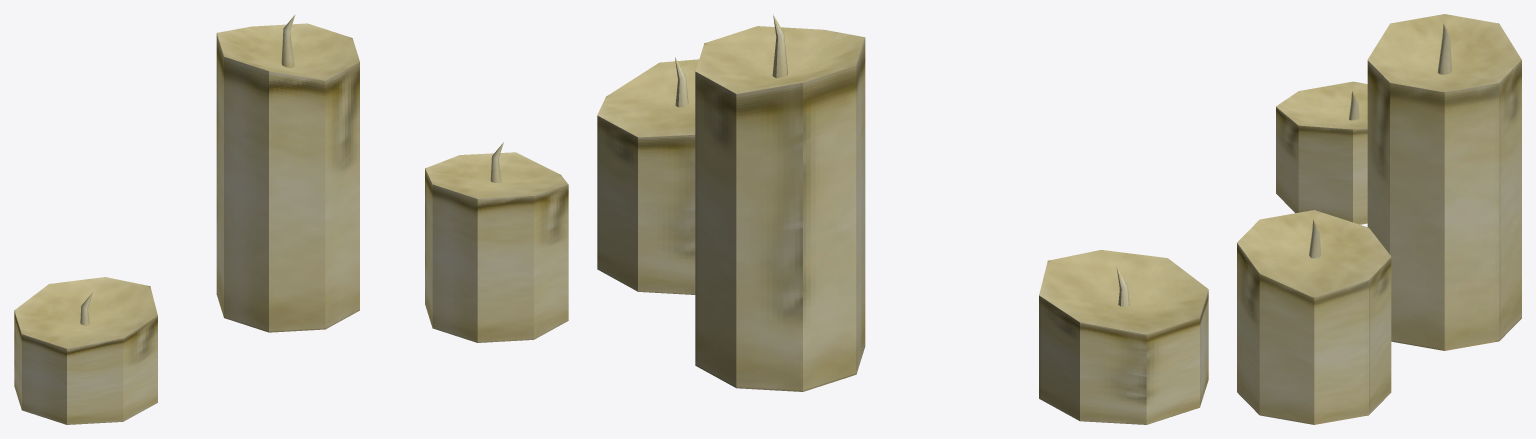
Rendered from candal_n.fbx.
The picture shows the model from 3 angles, left to right: view 1: azimuth 30°, elevation 25°; view 2: azimuth 150°, elevation 25°; view 3: azimuth 270°, elevation 25°; orthographic projection. The views are drawn at different scales.
Visible parts, largest first — view 1: pCylinder2, pCylinder3, pCylinder1; view 2: pCylinder2, pCylinder1, pCylinder3, pCone2; view 3: pCylinder2, pCylinder3, pCylinder1, pCone2, pCone3.
Boxes of the visible parts, x1,y1,x2,y2 form: pCylinder2: (216, 23, 359, 332); pCylinder3: (425, 152, 568, 342); pCylinder1: (14, 277, 157, 424); pCylinder2: (695, 26, 865, 391); pCylinder1: (1039, 250, 1208, 424); pCylinder3: (597, 59, 698, 294); pCone2: (772, 14, 787, 78); pCylinder2: (1367, 14, 1521, 350); pCylinder3: (1237, 210, 1391, 424); pCylinder1: (1276, 81, 1367, 224); pCone2: (1437, 24, 1451, 74); pCone3: (1309, 219, 1320, 258).
Size of the model in its own units: 8.1 by 4.27 by 3.69.
